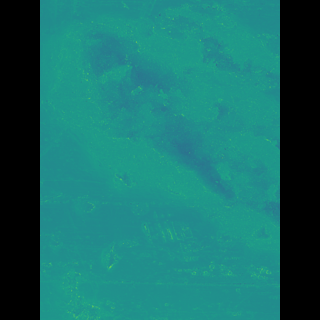Loch: (73, 0, 250, 247)
